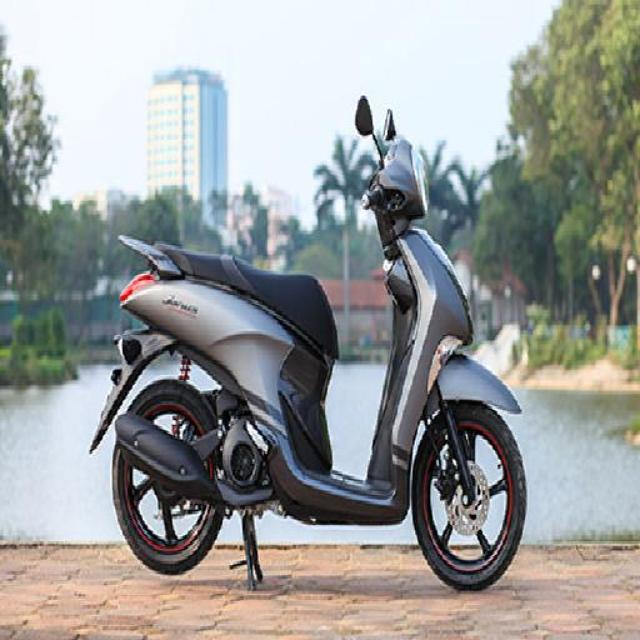All: (82, 100, 530, 594)
Head: (356, 132, 438, 225)
Tail: (111, 230, 190, 324)
